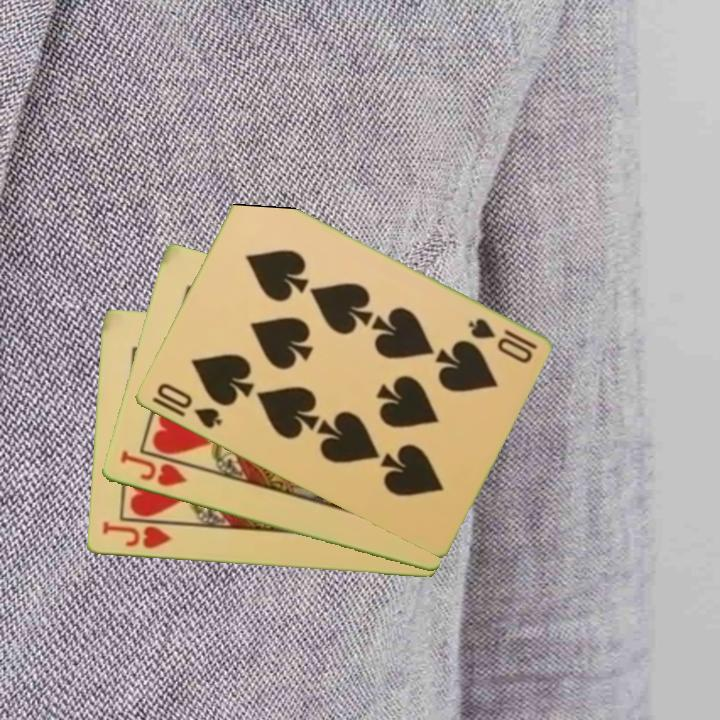10s: (464, 314, 539, 367), (152, 379, 225, 432)
Jh: (116, 447, 190, 490), (98, 519, 174, 552)
